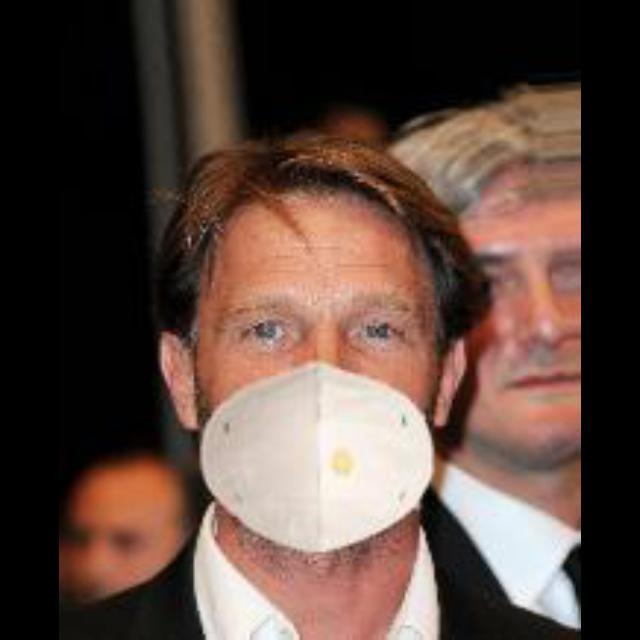suspicion: (142, 117, 524, 563)
